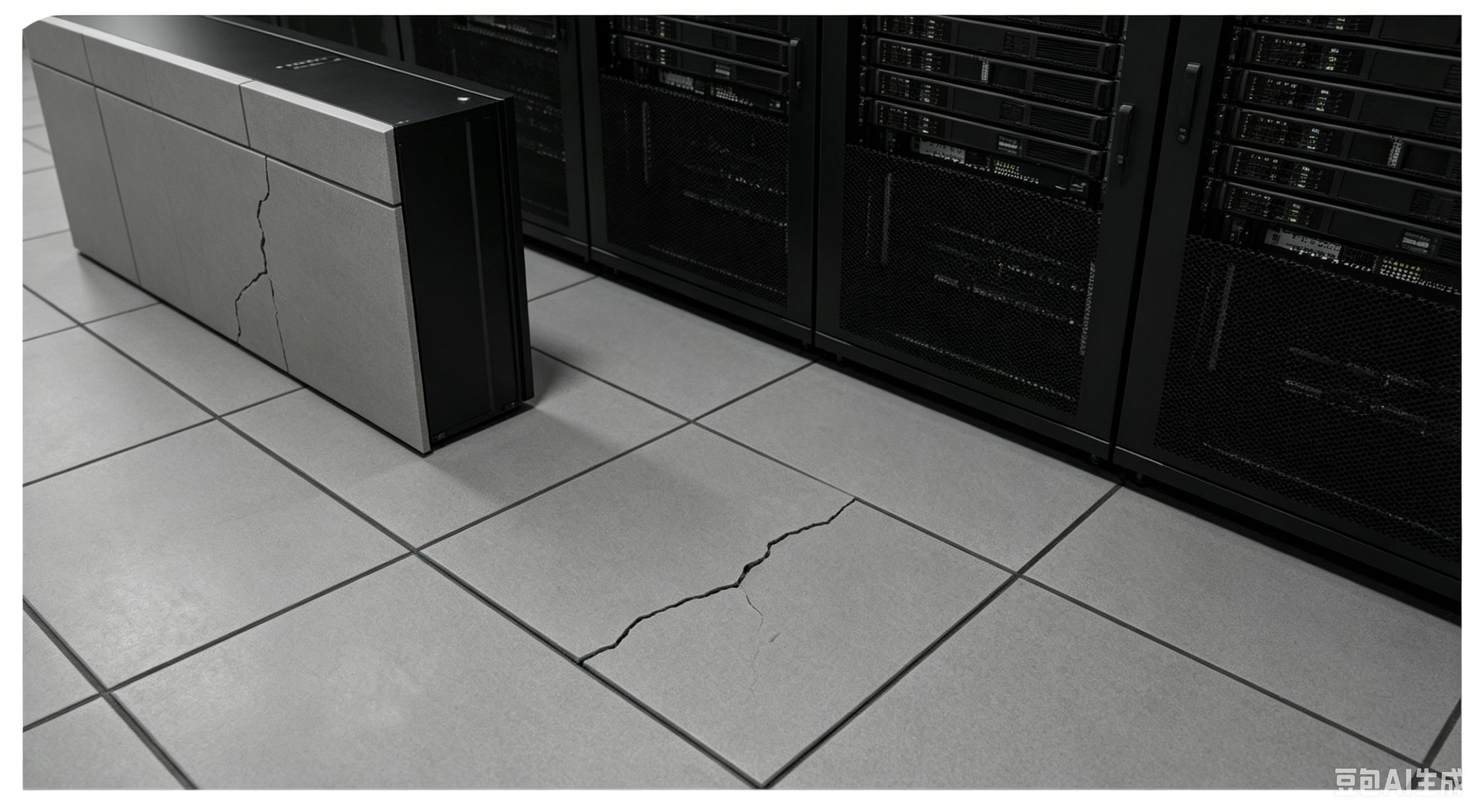floor_defect: (583, 587, 687, 663), (231, 162, 269, 357), (746, 515, 833, 563), (689, 568, 780, 608), (806, 490, 861, 518)
